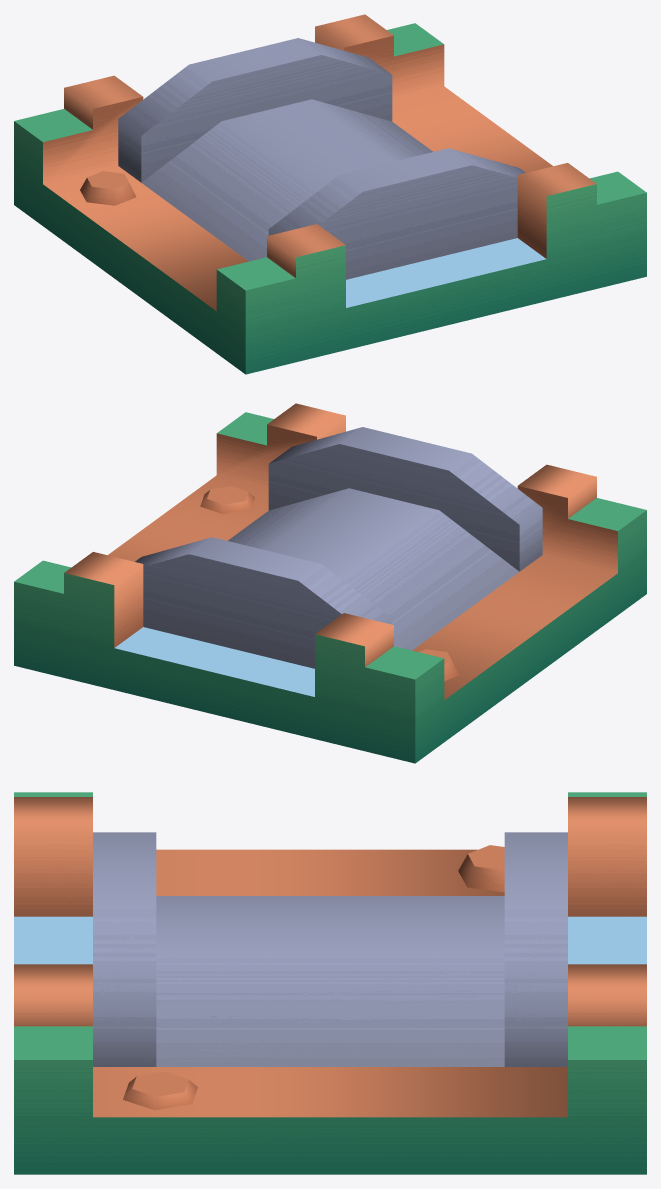
Rendered from tile-river-bridge.glb.
3 renders of one model, top to bottom at view 1: azimuth 30°, elevation 25°; view 2: azimuth 150°, elevation 25°; view 3: azimuth 270°, elevation 25°, orthographic. The views are drawn at different scales.
Visible parts, largest first — view 1: tile-river-bridge; view 2: tile-river-bridge; view 3: tile-river-bridge.
Boxes of the visible parts, bbox=[...] form: tile-river-bridge: bbox=[14, 14, 646, 374]; tile-river-bridge: bbox=[14, 403, 646, 763]; tile-river-bridge: bbox=[14, 792, 646, 1174].
Bounding box in the file's own units: 3 × 0.9 × 3.
1 material, 1 textured.
